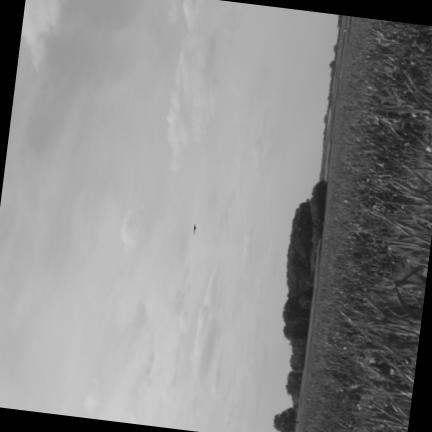Shahed: (192, 221, 196, 234)
